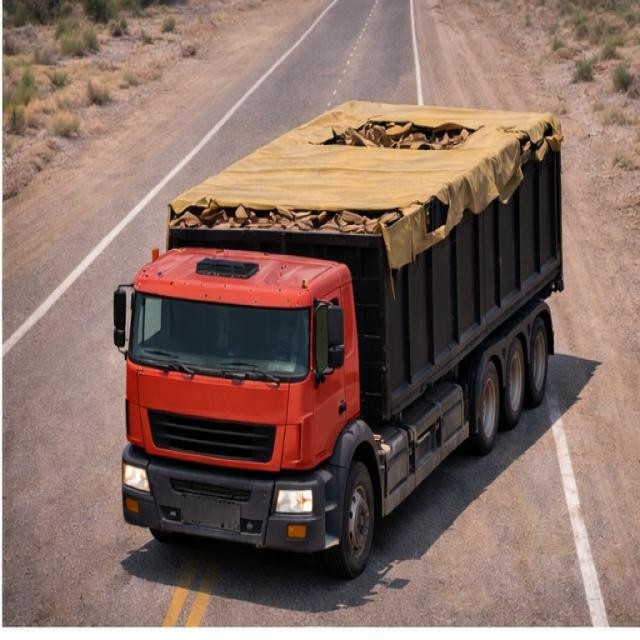Box: (160, 94, 558, 245)
Truck: (109, 83, 579, 556)
